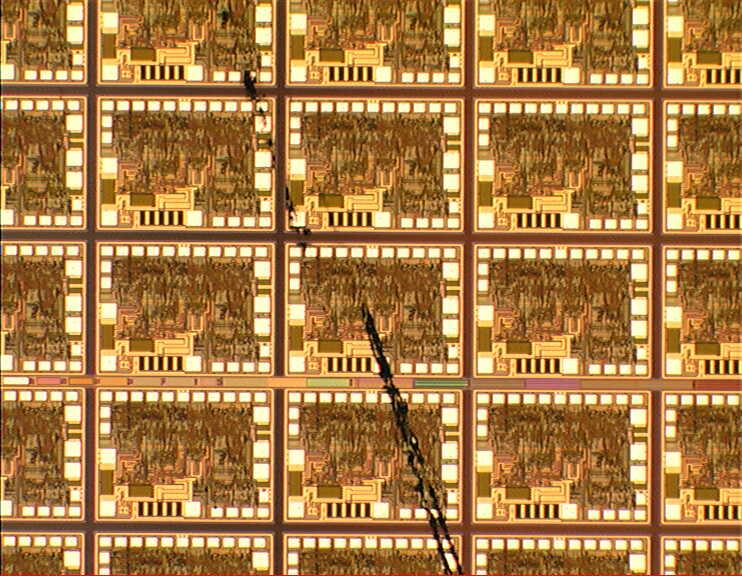SCRATCH: (208, 1, 474, 576)
